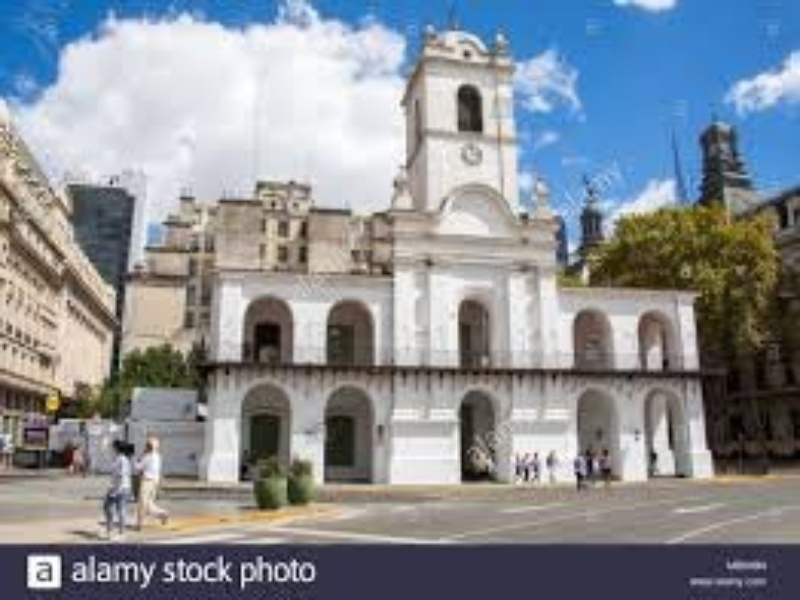cabildo: (194, 8, 727, 496)
